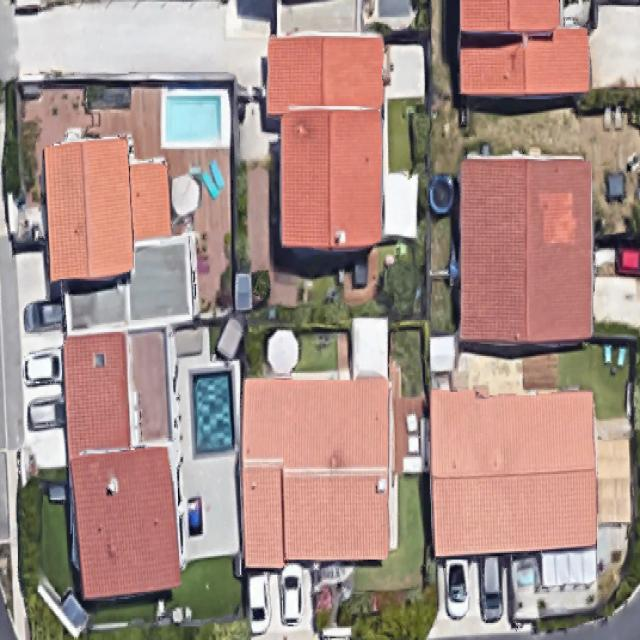maison: (36, 132, 205, 336), (424, 382, 602, 554), (242, 377, 392, 566), (458, 156, 592, 344), (265, 36, 381, 250), (70, 448, 180, 599), (63, 330, 180, 460), (460, 0, 589, 96)
